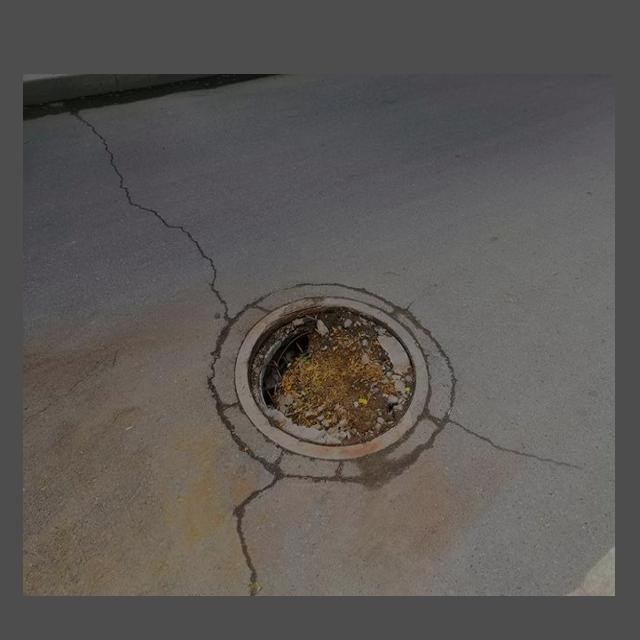broke: (197, 270, 449, 494)
